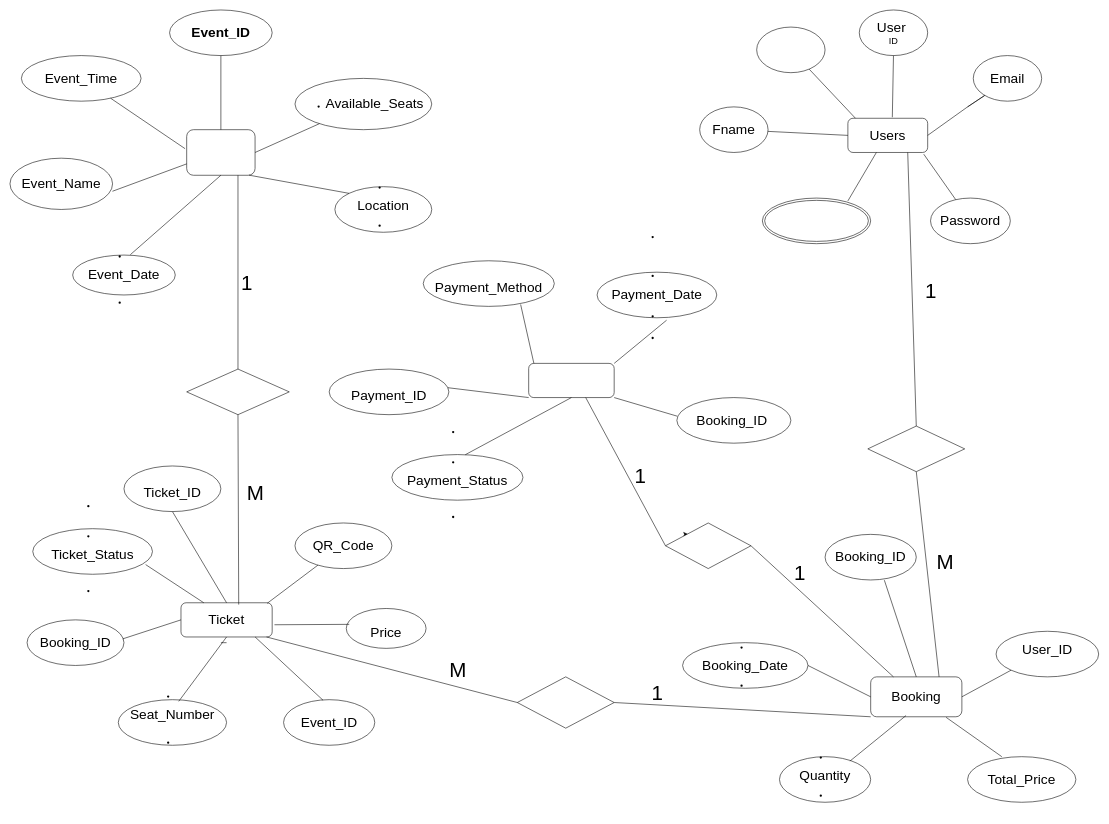
This 1109x824 diagram has some shape labels left out. Each missing label, with the centre of its shape:
Book: point 916,449
Contains: point 565,702
Event: point 220,152
Has: point 237,392
Lname: point 790,50
Payment: point 571,380
Pays: point 708,545
Phone_Number: point 816,221
